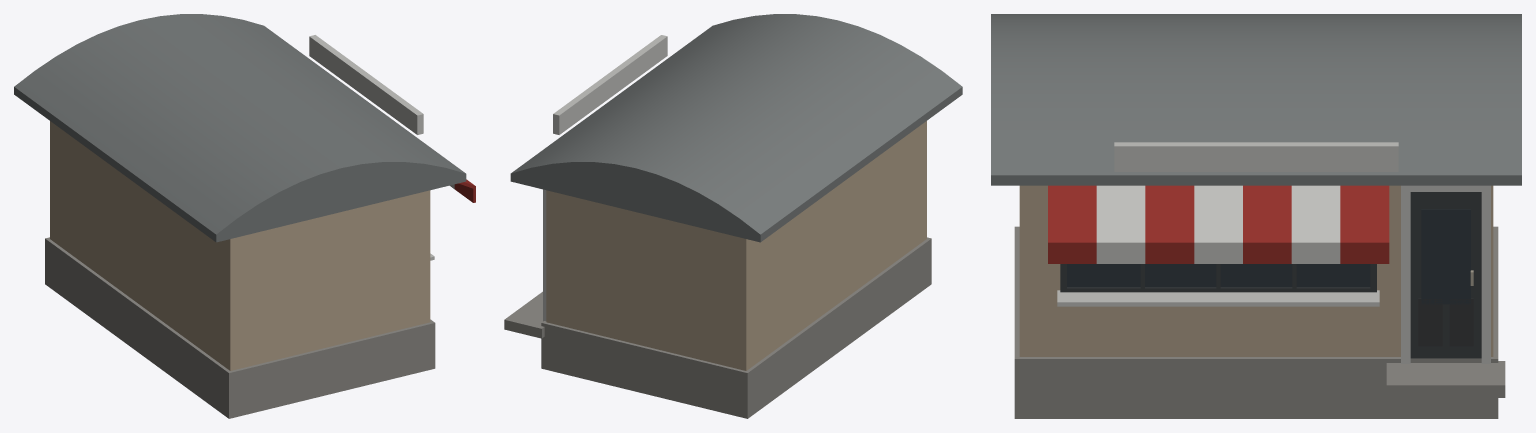
File: SM_Prop_cafe_building_4.glb
3 views of the same model, side by side, from view 1: azimuth 30°, elevation 25°; view 2: azimuth 150°, elevation 25°; view 3: azimuth 270°, elevation 25° (orthographic). The views are drawn at different scales.
Parts seen in each view (by area): view 1: SM_Prop_cafe_building_4; view 2: SM_Prop_cafe_building_4; view 3: SM_Prop_cafe_building_4.
Boxes of the visible parts, x1,y1,x2,y2 form: SM_Prop_cafe_building_4: (14,14,475,418); SM_Prop_cafe_building_4: (504,14,962,418); SM_Prop_cafe_building_4: (991,14,1521,418).
Bounding box in the file's own units: 4.5 × 3.55 × 5.6.
